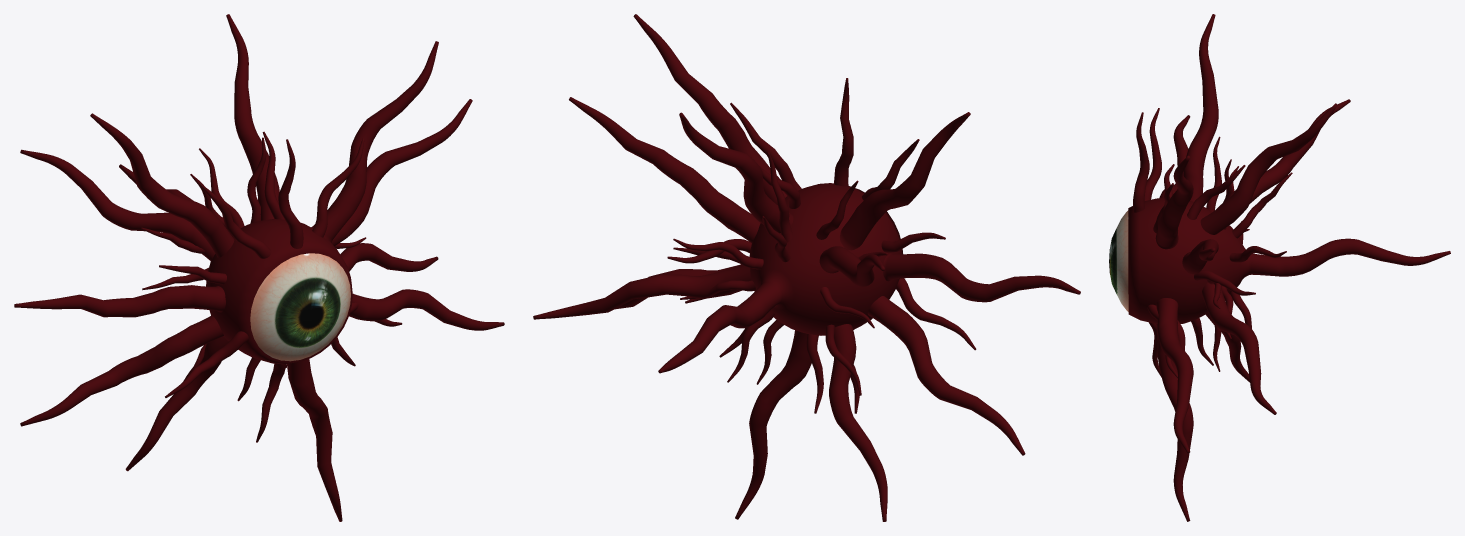
File: EyeMonster.fbx
The picture shows the model from 3 angles, left to right: view 1: azimuth 30°, elevation 25°; view 2: azimuth 150°, elevation 25°; view 3: azimuth 270°, elevation 25°; orthographic projection. The views are drawn at different scales.
Parts seen in each view (by area): view 1: Sphere.003; view 2: Sphere.003; view 3: Sphere.003.
Part boxes in pixels (x1,y1,x2,y2): Sphere.003: (14, 14, 504, 521); Sphere.003: (533, 14, 1080, 521); Sphere.003: (1109, 14, 1450, 521).
Bounding box in the file's own units: 8.31 × 7.4 × 5.62.
